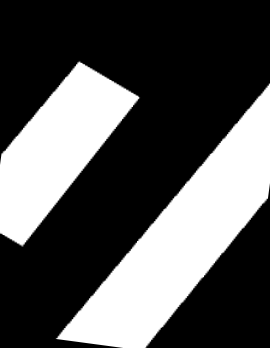parkingspot: (56, 84, 270, 348), (0, 62, 139, 246)
